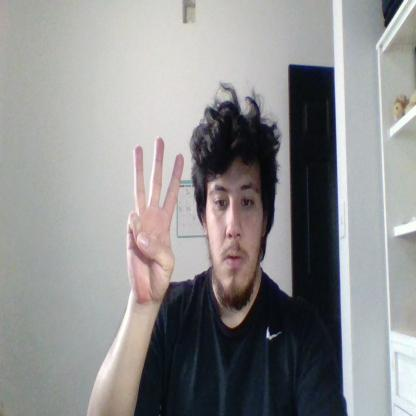W: (128, 134, 184, 302)
